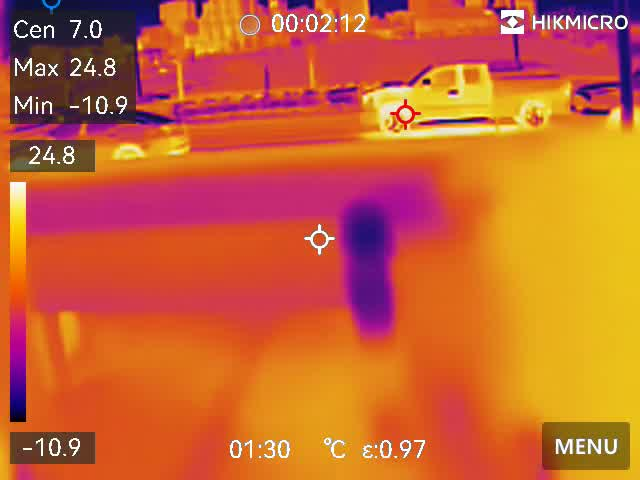lightTruck: (348, 57, 575, 132)
smallCar: (25, 108, 192, 159)
